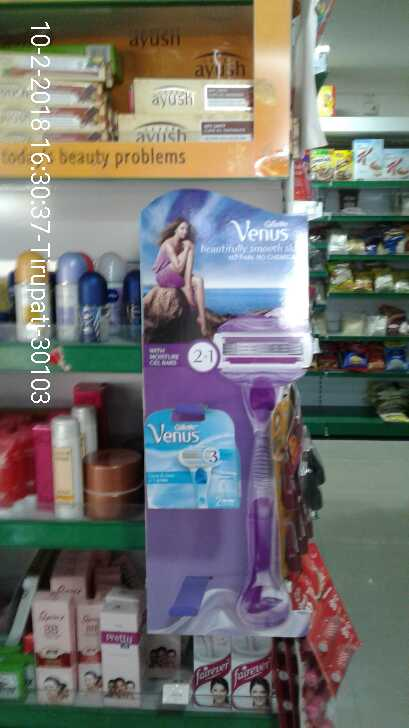venus: (144, 407, 243, 514)
